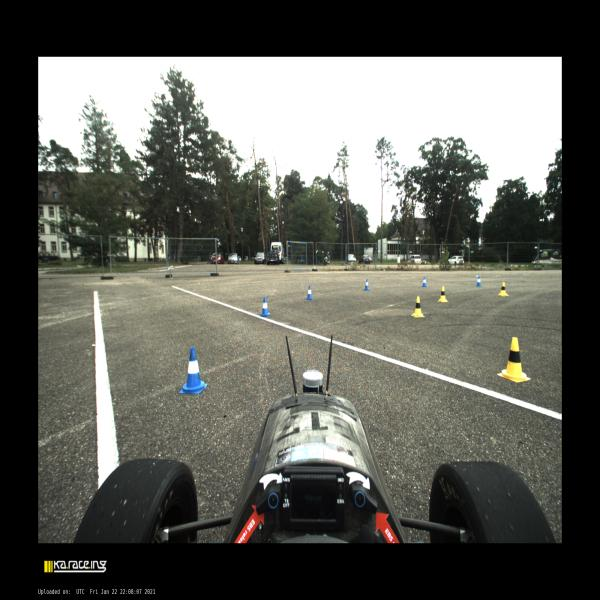blue_cone: (179, 347, 208, 394), (260, 297, 270, 317), (306, 285, 314, 300), (364, 279, 370, 291), (476, 276, 482, 286), (422, 277, 427, 287)
yellow_cone: (497, 338, 530, 382), (411, 296, 425, 318), (438, 286, 448, 302), (498, 282, 509, 296)
